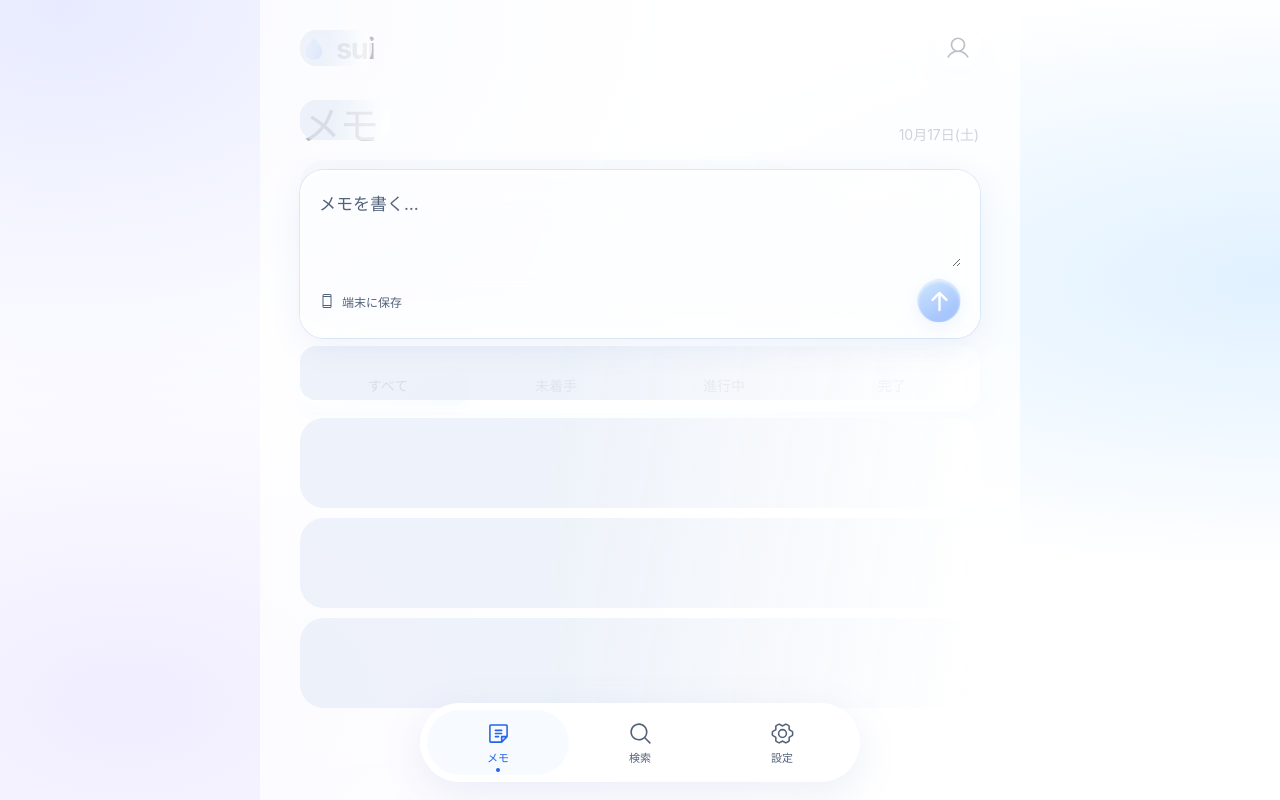
Scenario: 全画面スケルトン表示中にもメモを書ける
expect the message named "メモを読み込み中" is shown: met, box [260,0,1020,799]
In the text box labelled "メモを書く": coordinates (640, 229) [319,191,961,267], type "読込中の下書き"
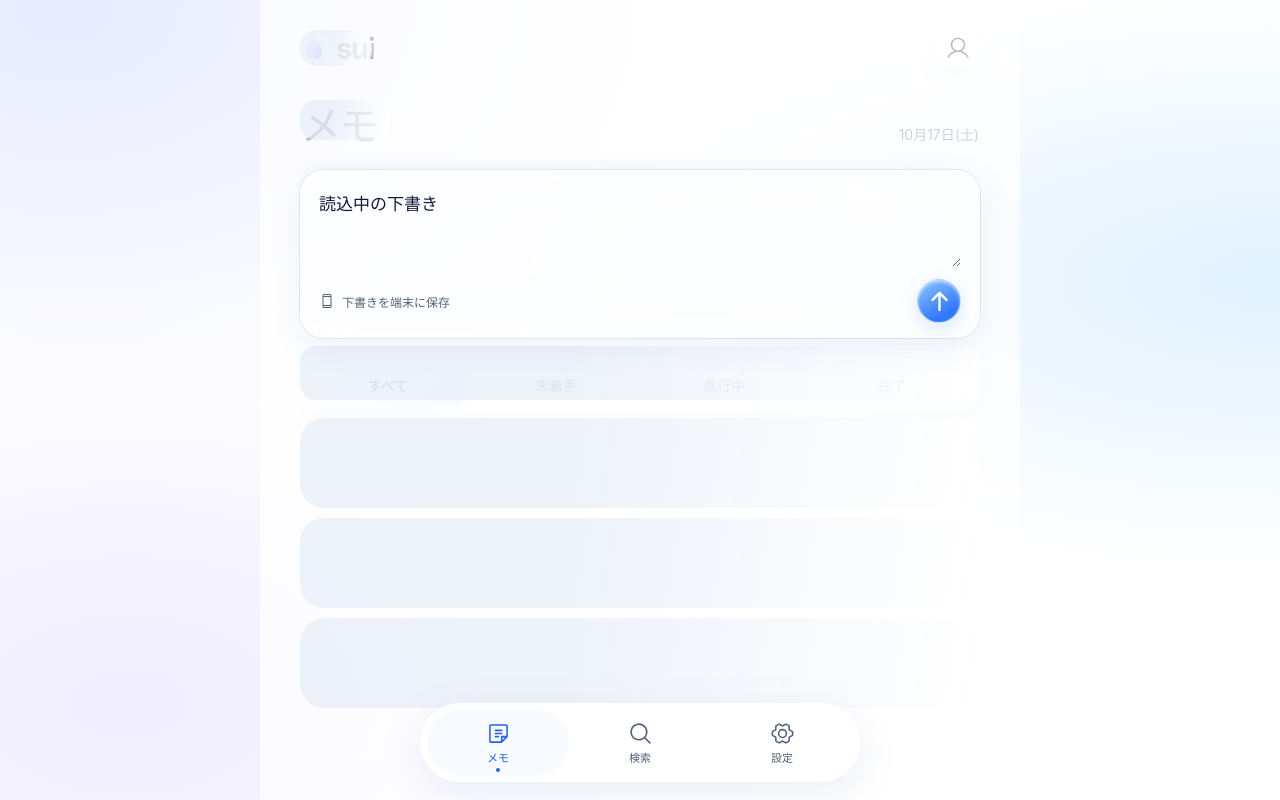
expect the button named "メモを追加" is enabled: met, box [917,279,961,323]
